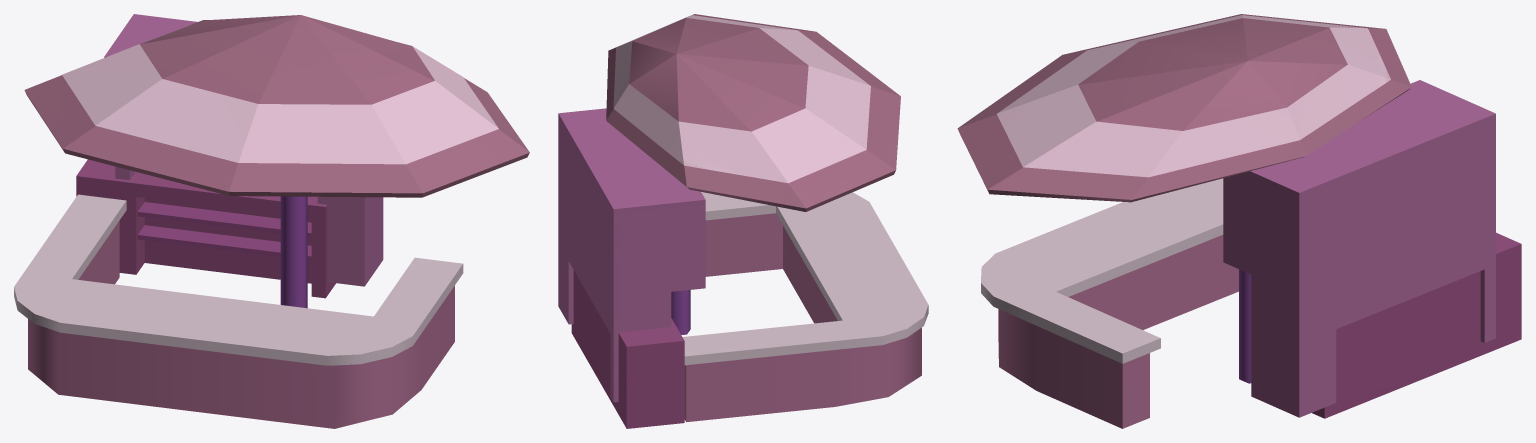
The model's file is Foodstand_01.fbx.
3 renders of one model, left to right at view 1: azimuth 30°, elevation 25°; view 2: azimuth 150°, elevation 25°; view 3: azimuth 270°, elevation 25°, orthographic. The views are drawn at different scales.
Visible parts, largest first — view 1: Foodstand_01; view 2: Foodstand_01; view 3: Foodstand_01.
Part boxes in pixels (<box>): Foodstand_01: <box>14,14,529,428</box>; Foodstand_01: <box>558,14,928,428</box>; Foodstand_01: <box>957,14,1521,428</box>.
Size of the model in its own units: 14.4 by 10.47 by 16.73.
1 material, 1 textured.
